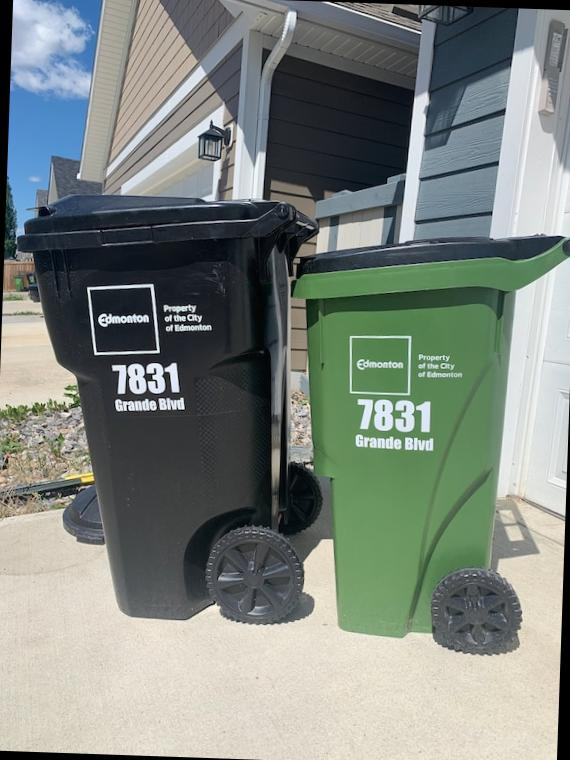garbage bin: (18, 195, 318, 621), (294, 234, 570, 654)
pavement: (0, 498, 564, 760)
